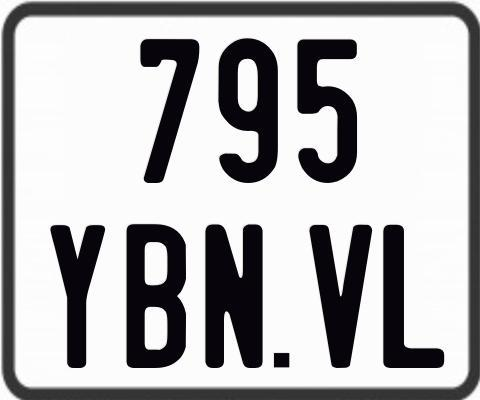5: (294, 38, 359, 182)
7: (139, 37, 201, 186)
9: (217, 36, 280, 181)
B: (125, 222, 186, 371)
L: (381, 224, 447, 373)
N: (204, 221, 263, 365)
V: (307, 225, 375, 373)
Y: (50, 224, 111, 371)
